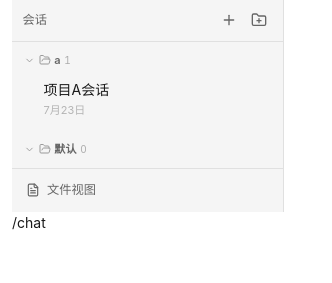
Test case: SessionList › clicking 分组行 ＋ starts a new session bound to that directory (no dialog)
Hover over the button named "分组 a" at (48, 60), box [24, 53, 71, 67]
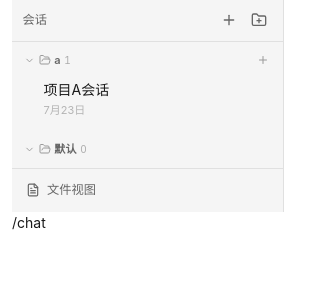
Click the button named "在 a 新建会话" at (263, 60), box [255, 52, 271, 68]
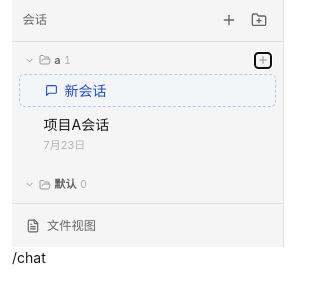
Expected: the text with test id "location-display" reads "/chat", [12, 249, 46, 266]
Expected: the button "新会话" is shown, [19, 74, 276, 107]
